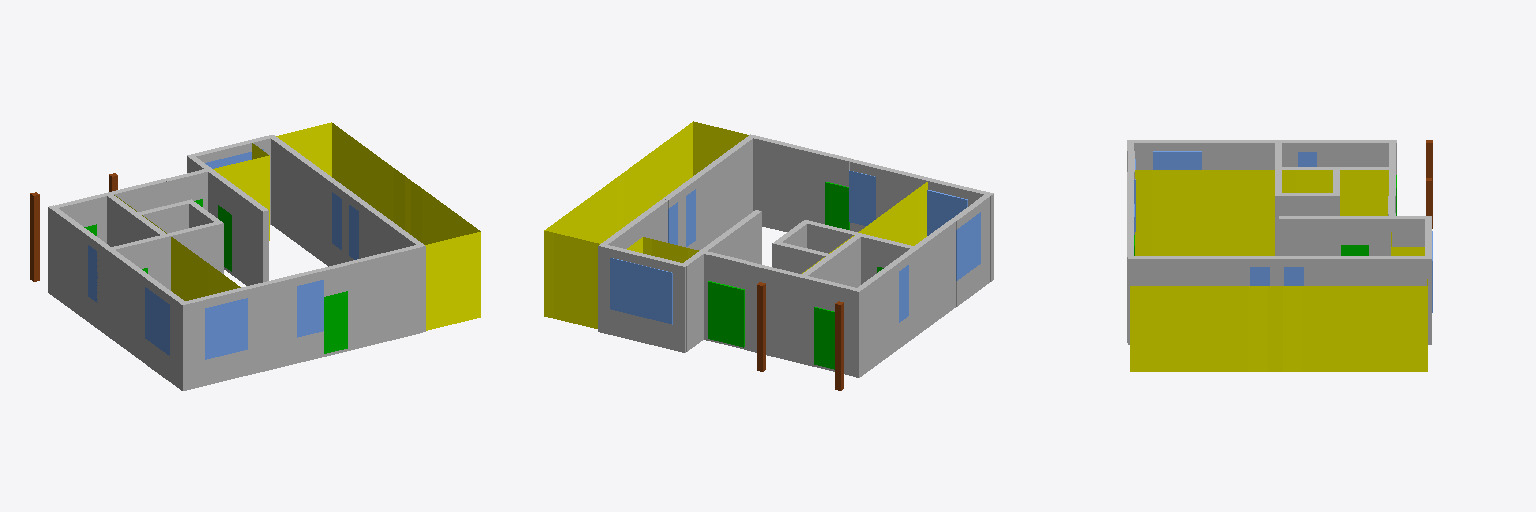
File: wall_coordinates_3d_fixed_outline.obj
The picture shows the model from 3 angles: view 1: azimuth 30°, elevation 25°; view 2: azimuth 150°, elevation 25°; view 3: azimuth 270°, elevation 25°; orthographic projection.
Visible parts, largest first — view 1: Outline_Wall, Wall_15, Wall_12, Wall_3, Wall_8, Wall_5, Wall_18, Wall_2, Wall_9, Internal_window_window_2, Wall_26, Internal_window_window_4 (+19 smaller); view 2: Outline_Wall, Wall_15, Wall_9, Wall_13, Wall_8, Wall_5, Internal_window_window_1, Internal_door_door_1, Wall_25, Wall_12, Fill_Below_window_1, Wall_3 (+24 smaller); view 3: Outline_Wall, Wall_12, Wall_9, Wall_18, Wall_5, Wall_8, Internal_window_window_3, Wall_25, Wall_19, Fill_Above_door_4, Wall_23, Wall_22 (+2 smaller).
Part boxes in pixels (left/top/right/bottom): Outline_Wall: left=114, top=122, right=480, bottom=330; Wall_15: left=345, top=244, right=422, bottom=350; Wall_12: left=271, top=136, right=337, bottom=266; Wall_3: left=245, top=275, right=296, bottom=374; Wall_8: left=48, top=205, right=92, bottom=321; Wall_5: left=107, top=249, right=150, bottom=362; Wall_18: left=232, top=188, right=268, bottom=285; Wall_2: left=179, top=297, right=204, bottom=390; Wall_9: left=359, top=201, right=425, bottom=331; Internal_window_window_2: left=205, top=298, right=247, bottom=359; Wall_26: left=165, top=222, right=220, bottom=290; Internal_window_window_4: left=297, top=280, right=323, bottom=337; Outline_Wall: left=544, top=121, right=927, bottom=328; Wall_15: left=753, top=135, right=828, bottom=231; Wall_9: left=690, top=134, right=755, bottom=250; Wall_13: left=745, top=261, right=803, bottom=363; Wall_8: left=853, top=262, right=898, bottom=377; Wall_5: left=912, top=220, right=955, bottom=334; Internal_window_window_1: left=610, top=258, right=672, bottom=324; Internal_door_door_1: left=708, top=281, right=744, bottom=347; Wall_25: left=684, top=251, right=703, bottom=351; Wall_12: left=601, top=199, right=667, bottom=248; Fill_Below_window_1: left=610, top=310, right=672, bottom=349; Wall_3: left=876, top=166, right=927, bottom=218; Outline_Wall: left=1130, top=170, right=1427, bottom=371; Wall_12: left=1304, top=256, right=1428, bottom=344; Wall_9: left=1128, top=256, right=1249, bottom=344; Wall_18: left=1279, top=216, right=1340, bottom=255; Wall_5: left=1202, top=140, right=1278, bottom=169; Wall_8: left=1317, top=140, right=1396, bottom=174; Internal_window_window_3: left=1153, top=151, right=1201, bottom=169; Wall_25: left=1393, top=216, right=1428, bottom=246; Wall_19: left=1369, top=216, right=1392, bottom=255; Fill_Above_door_4: left=1341, top=216, right=1368, bottom=244; Wall_23: left=1314, top=193, right=1339, bottom=215; Wall_22: left=1275, top=193, right=1291, bottom=255.
Bounding box in the file's own units: 10.93 × 3 × 9.67.